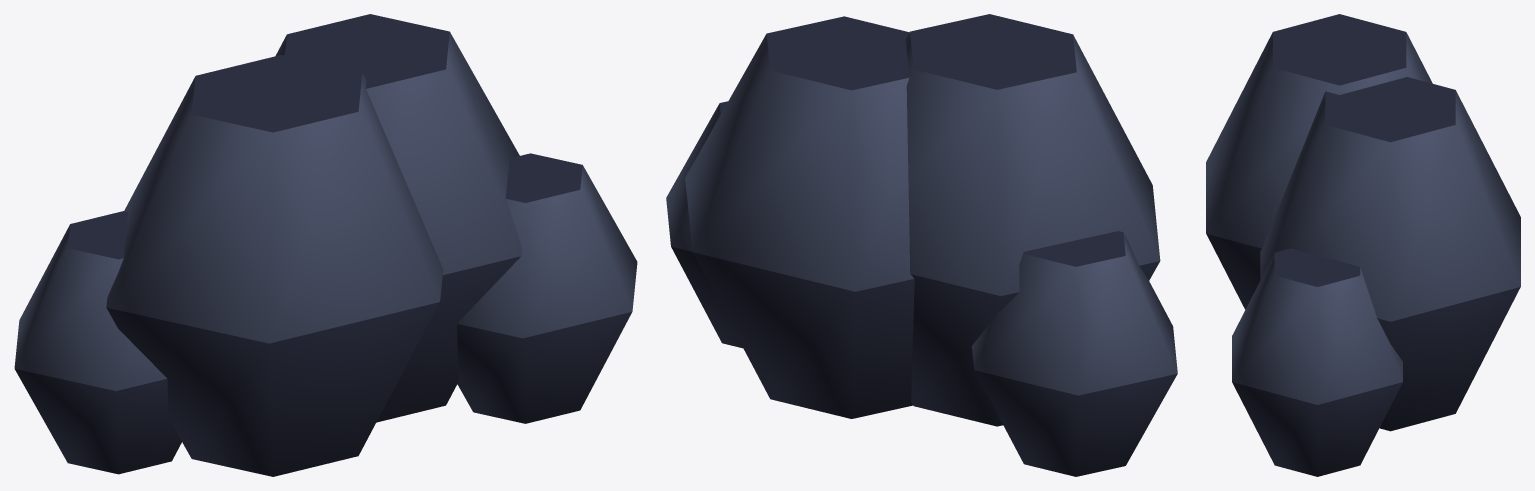
The model's file is SM_Env_StormCloud_LQ.glb.
The picture shows the model from 3 angles, left to right: view 1: azimuth 30°, elevation 25°; view 2: azimuth 150°, elevation 25°; view 3: azimuth 270°, elevation 25°; orthographic projection. The views are drawn at different scales.
Visible parts, largest first — view 1: SM_Env_StormCloud_LQ; view 2: SM_Env_StormCloud_LQ; view 3: SM_Env_StormCloud_LQ.
Boxes of the visible parts, x1,y1,x2,y2 form: SM_Env_StormCloud_LQ: (14,14,637,476); SM_Env_StormCloud_LQ: (666,14,1177,476); SM_Env_StormCloud_LQ: (1206,14,1520,476).
Size of the model in its own units: 12.04 by 7.11 by 6.66.
1 material, 1 textured.
